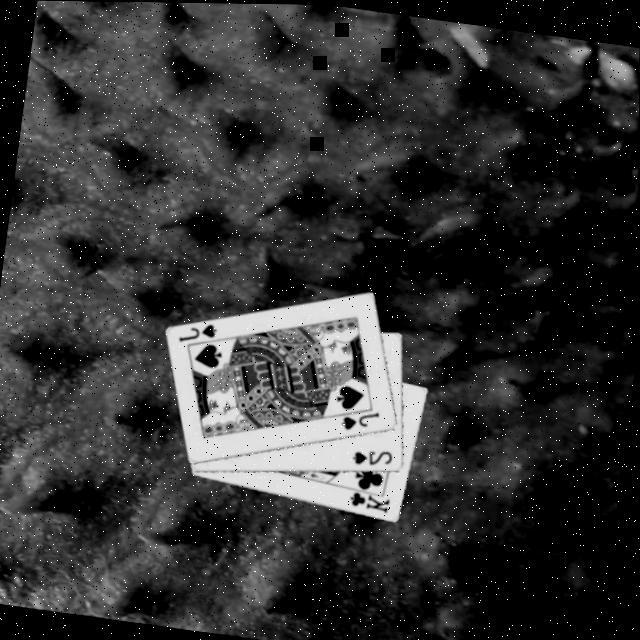2S: (348, 440, 397, 470)
JS: (175, 314, 220, 348), (337, 401, 382, 434)
KC: (342, 479, 393, 514)
